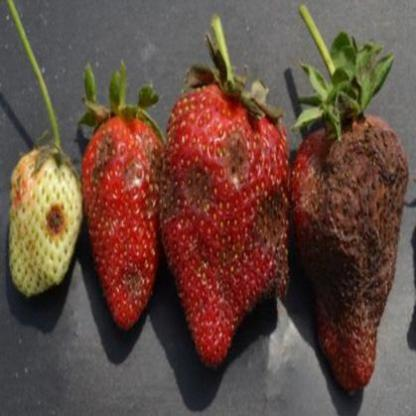Strawberry_Anthracnose_Fruit_Rot: (292, 121, 410, 372), (162, 124, 289, 304), (89, 129, 166, 300), (43, 202, 69, 240)
